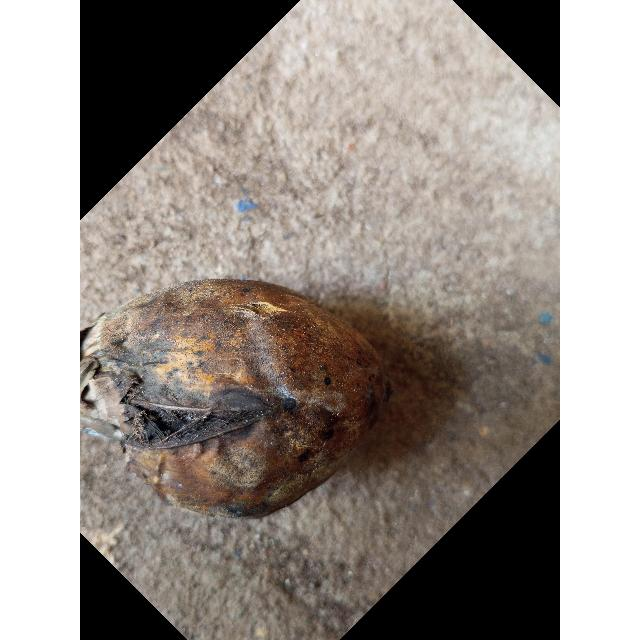damaged: (80, 277, 393, 521)
